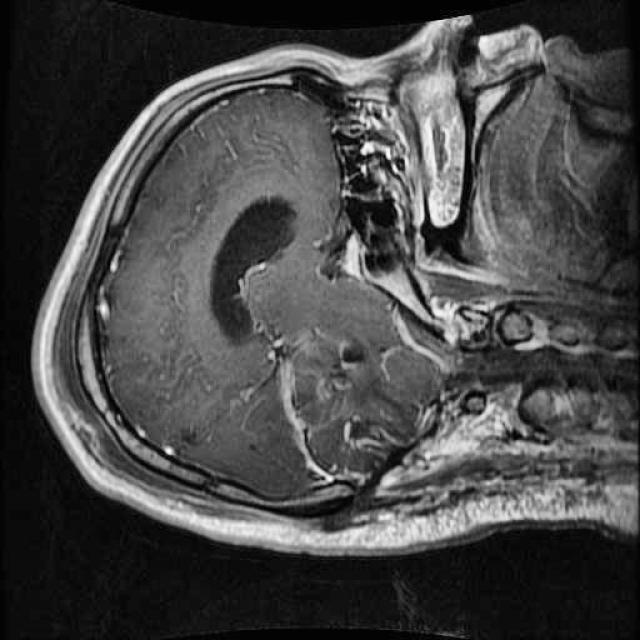Tumor: (246, 306, 449, 503)
